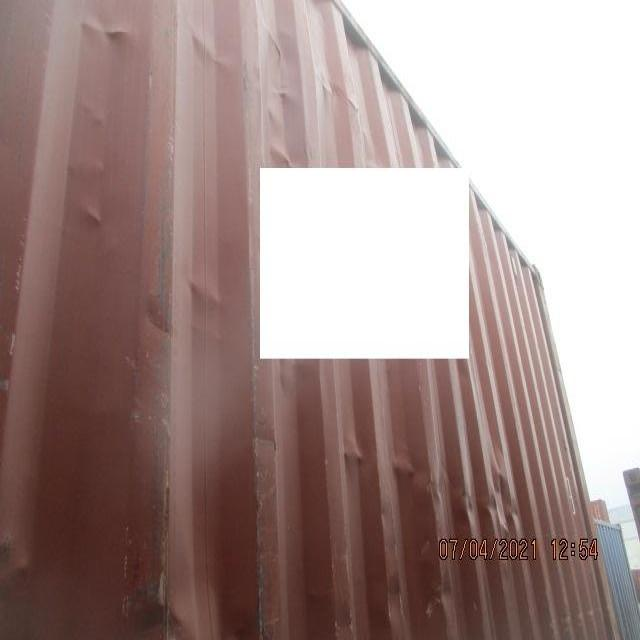dent: (345, 423, 540, 539), (320, 566, 461, 632), (116, 575, 224, 640), (152, 267, 226, 347)
